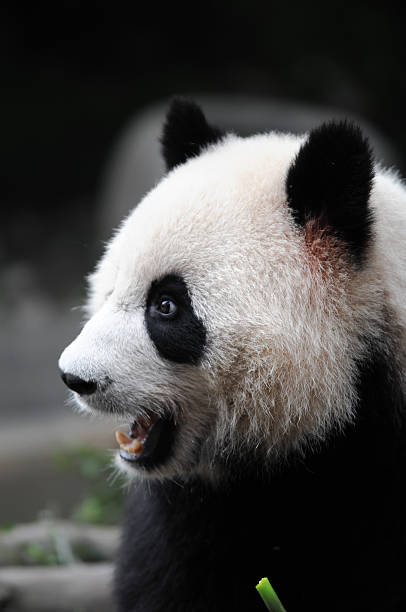panda: (25, 68, 406, 554)
